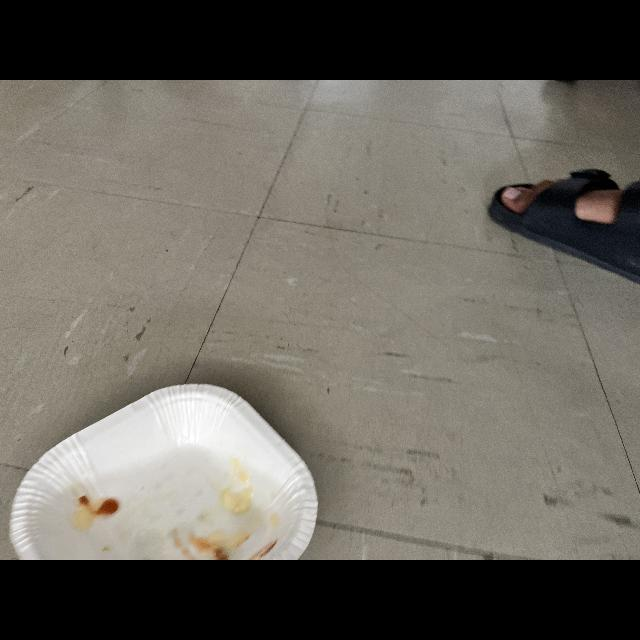cardboard_bowl: (10, 384, 320, 560)
